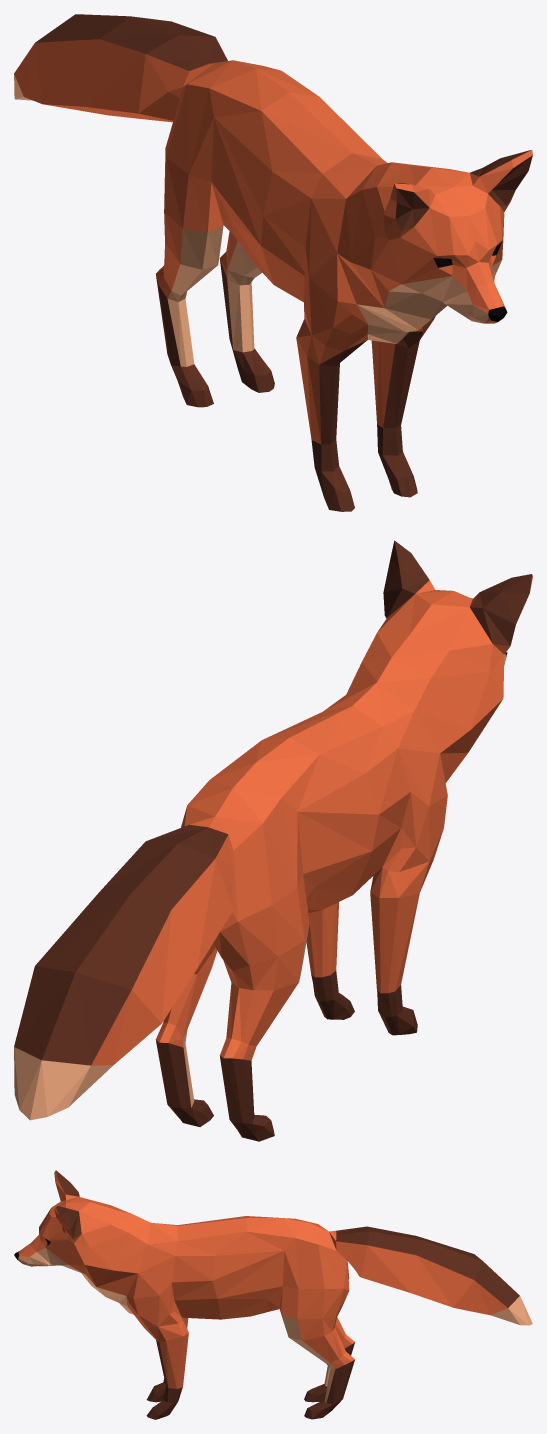
Rendered from fox_colorMap.obj.
3 renders of one model, top to bottom at view 1: azimuth 30°, elevation 25°; view 2: azimuth 150°, elevation 25°; view 3: azimuth 270°, elevation 25°, orthographic. The views are drawn at different scales.
Size of the model in its own units: 19.24 by 52.55 by 113.
